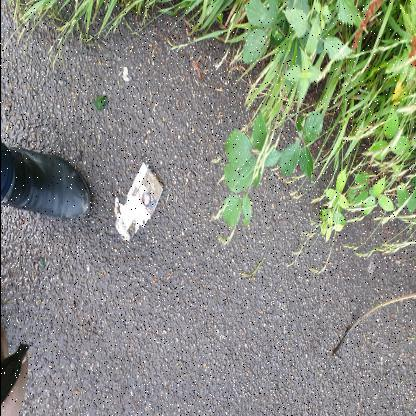cardboard: (114, 162, 162, 241)
